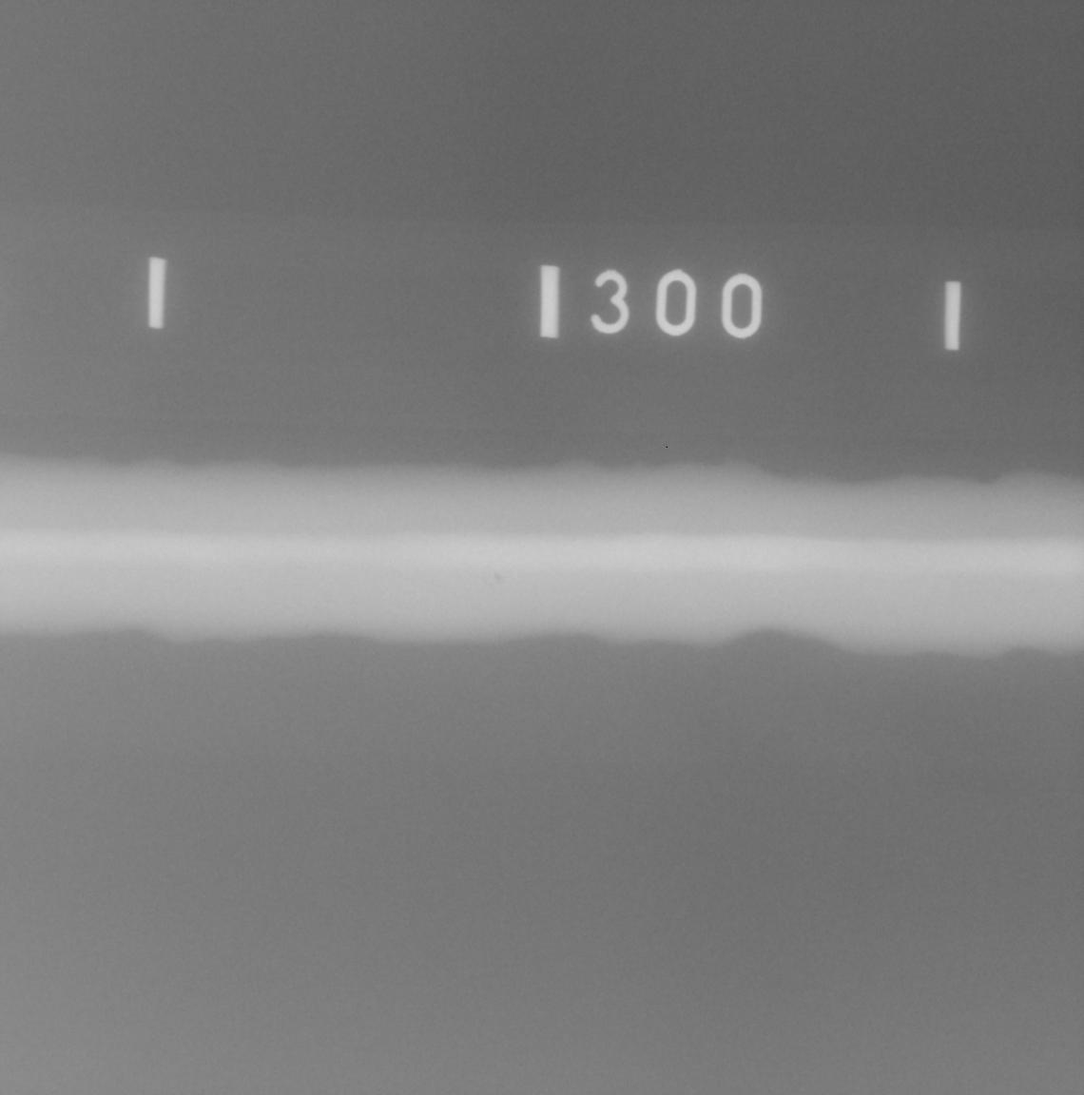Pore/Porosity: (495, 573, 503, 581)
